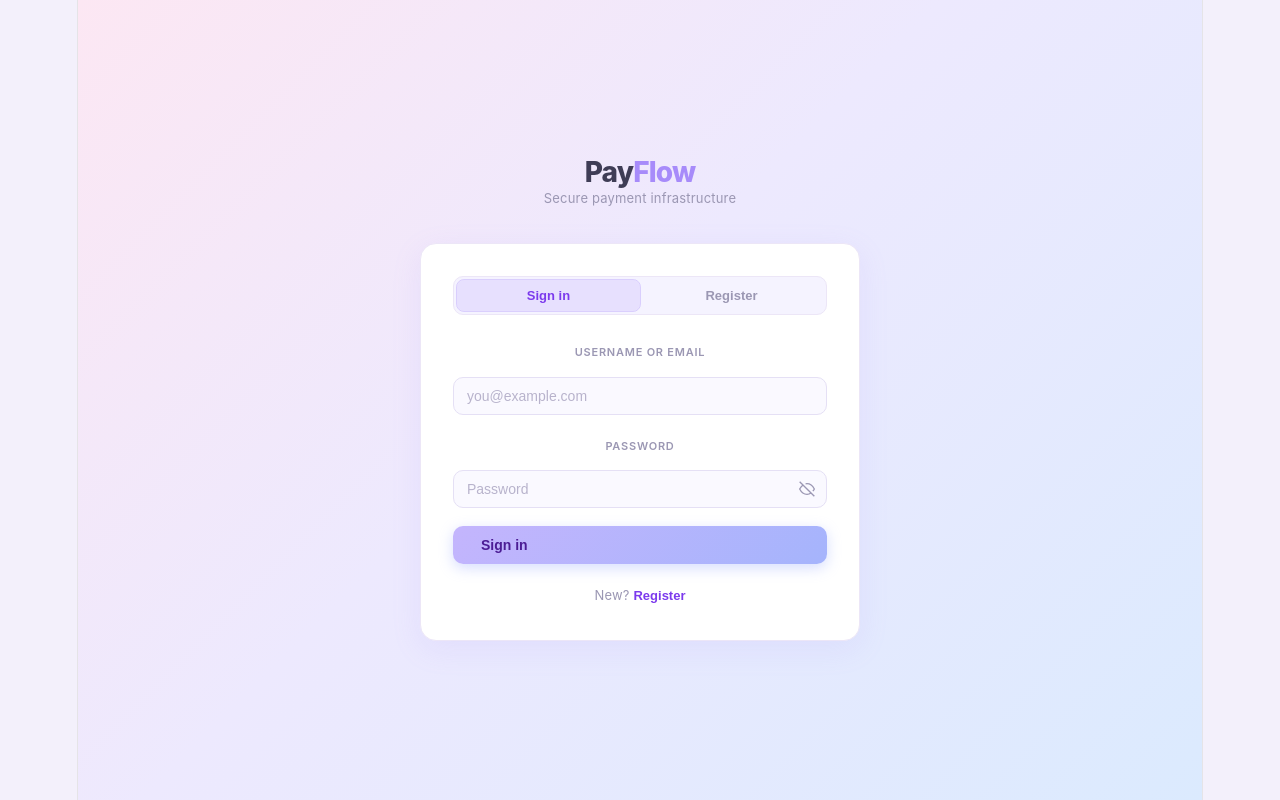
Scenario: LoginForm › validates that both fields are required
Check: the text "Secure payment infrastructure" is shown, box [544,190,736,206]
Click the button "Sign in" below "Password" at (504,545), box [453,526,827,564]
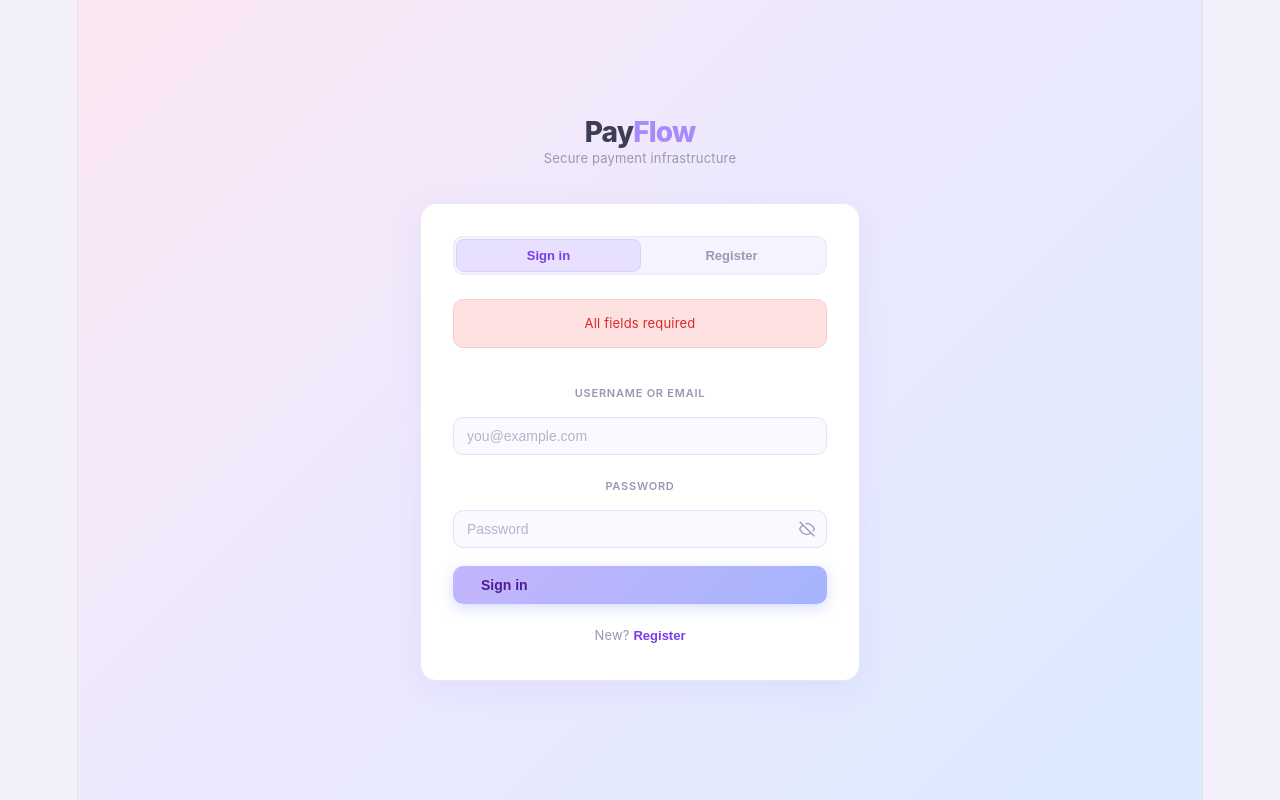
Check: the text "All fields required" is shown, box [453,299,827,348]
